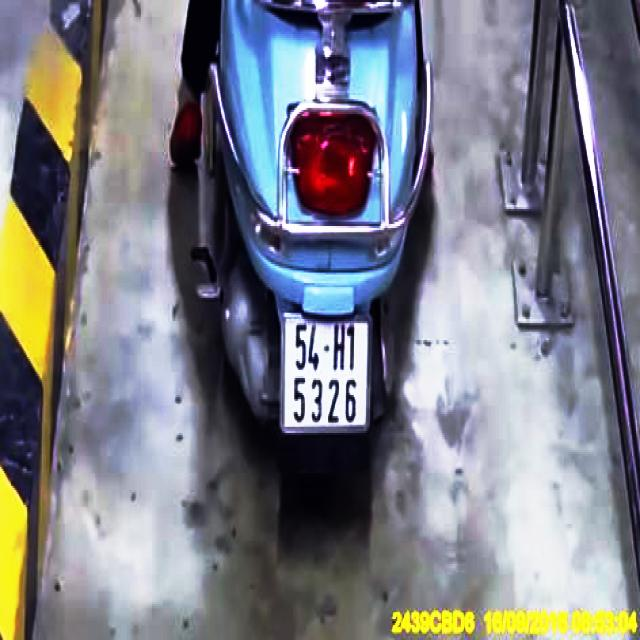license_plate: (285, 320, 373, 434)
